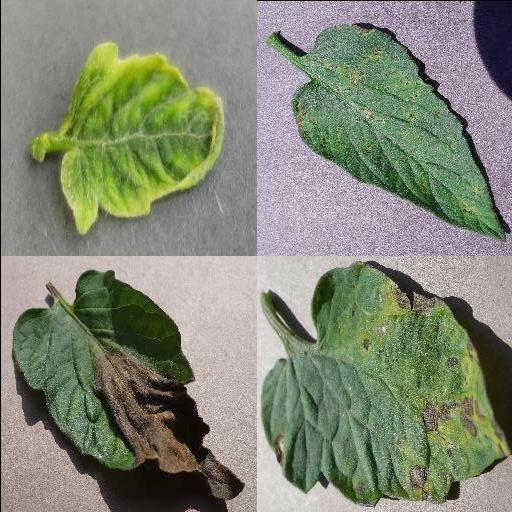Early Blight: (259, 264, 509, 508)
Late Blight: (12, 270, 246, 504)
Septoria: (292, 23, 504, 245)
Yellow Leaf Curl Virus: (58, 42, 224, 235)
